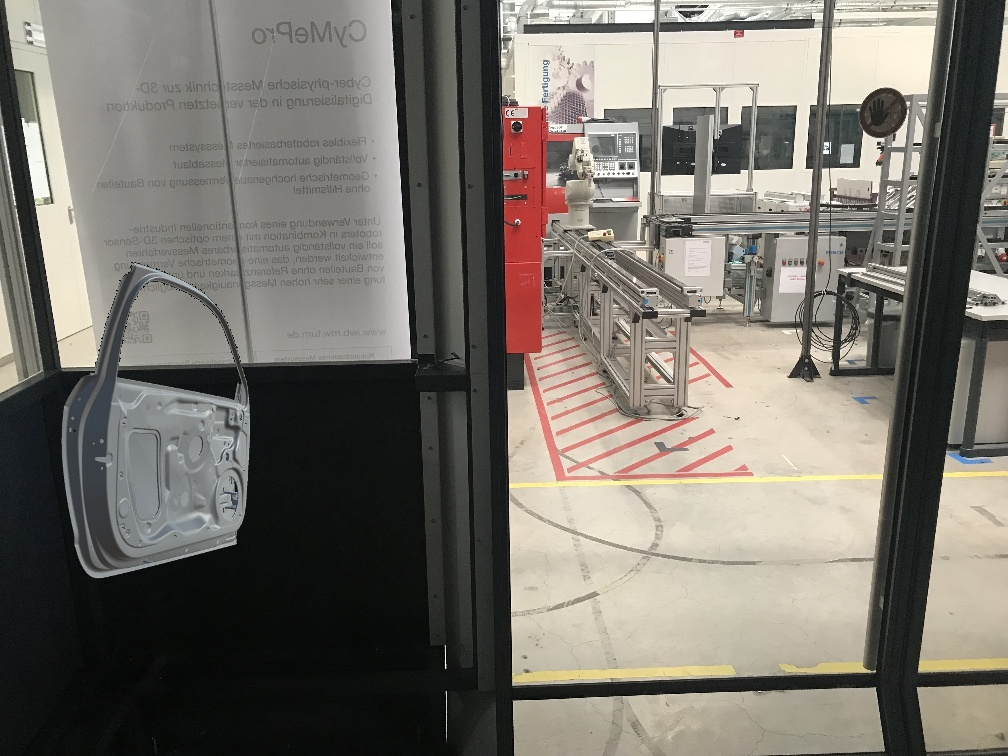car_door: (61, 262, 249, 578)
